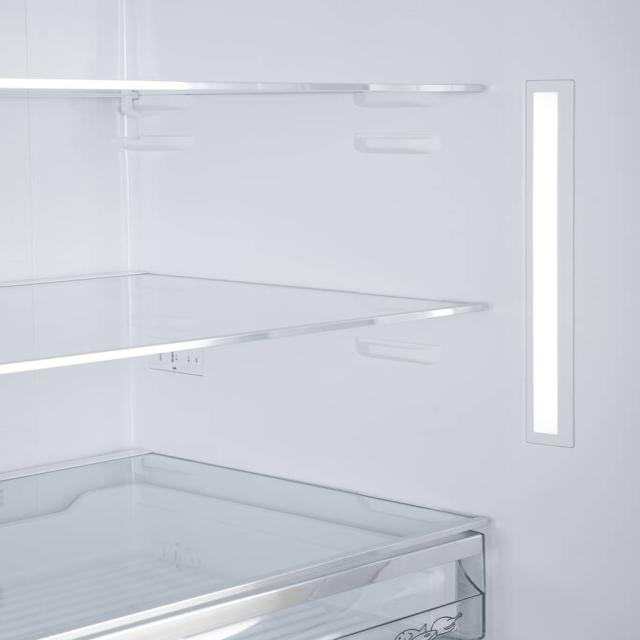fridge-space: (113, 419, 332, 595), (164, 400, 473, 522), (1, 430, 154, 635), (1, 22, 456, 82), (147, 198, 313, 335), (2, 200, 144, 359), (310, 195, 478, 312)
